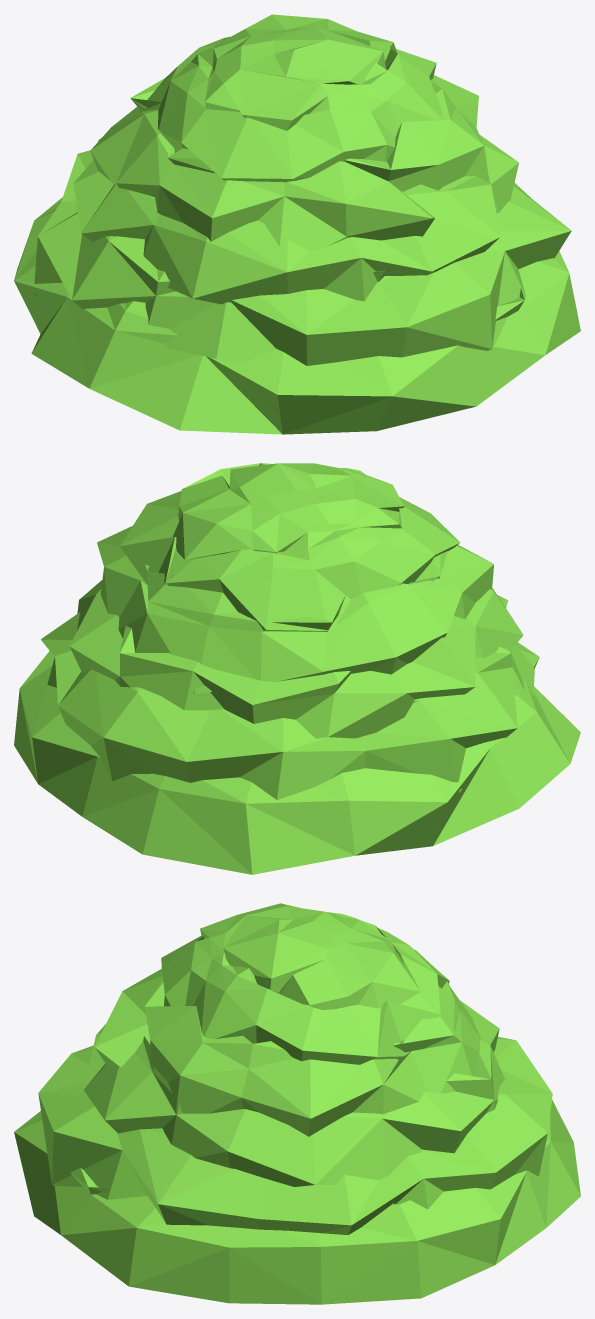
File: Bush.glb
3 views of the same model, one above another, from view 1: azimuth 30°, elevation 25°; view 2: azimuth 150°, elevation 25°; view 3: azimuth 270°, elevation 25° (orthographic). The views are drawn at different scales.
Visible parts, largest first — view 1: _1_tree; view 2: _1_tree; view 3: _1_tree.
Boxes of the visible parts, bbox=[...] form: _1_tree: bbox=[14, 14, 580, 434]; _1_tree: bbox=[14, 463, 580, 874]; _1_tree: bbox=[14, 903, 580, 1304].
Bounding box in the file's own units: 0.3732 × 0.2258 × 0.3898.
